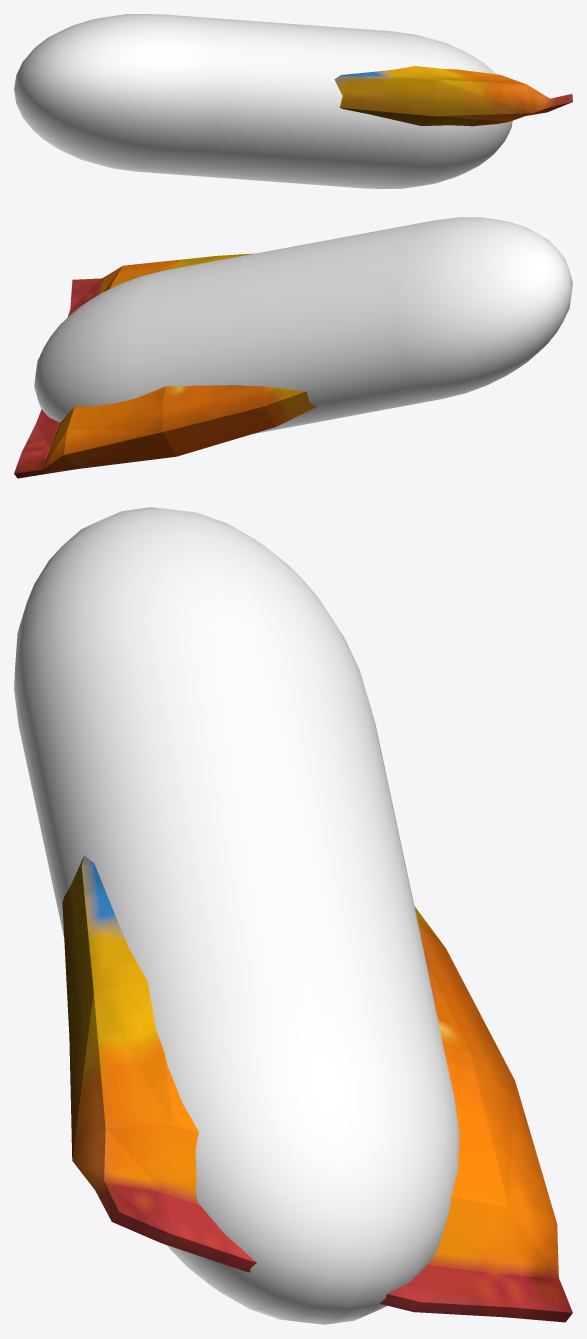
Rendered from MonkeIceCreamAnchor.fbx.
The picture shows the model from 3 angles, top to bottom: view 1: azimuth 30°, elevation 25°; view 2: azimuth 150°, elevation 25°; view 3: azimuth 270°, elevation 25°; orthographic projection. The views are drawn at different scales.
Parts seen in each view (by area): view 1: MonkeIceCreamInteractionPoint, CursedIceCream; view 2: MonkeIceCreamInteractionPoint, CursedIceCream; view 3: MonkeIceCreamInteractionPoint, CursedIceCream.
Boxes of the visible parts, x1,y1,x2,y2 form: MonkeIceCreamInteractionPoint: (14, 14, 512, 188); CursedIceCream: (334, 66, 572, 126); MonkeIceCreamInteractionPoint: (34, 217, 572, 434); CursedIceCream: (14, 253, 317, 478); MonkeIceCreamInteractionPoint: (14, 507, 459, 1324); CursedIceCream: (62, 855, 572, 1322).
Size of the model in its own units: 26.93 by 12.97 by 14.02.
